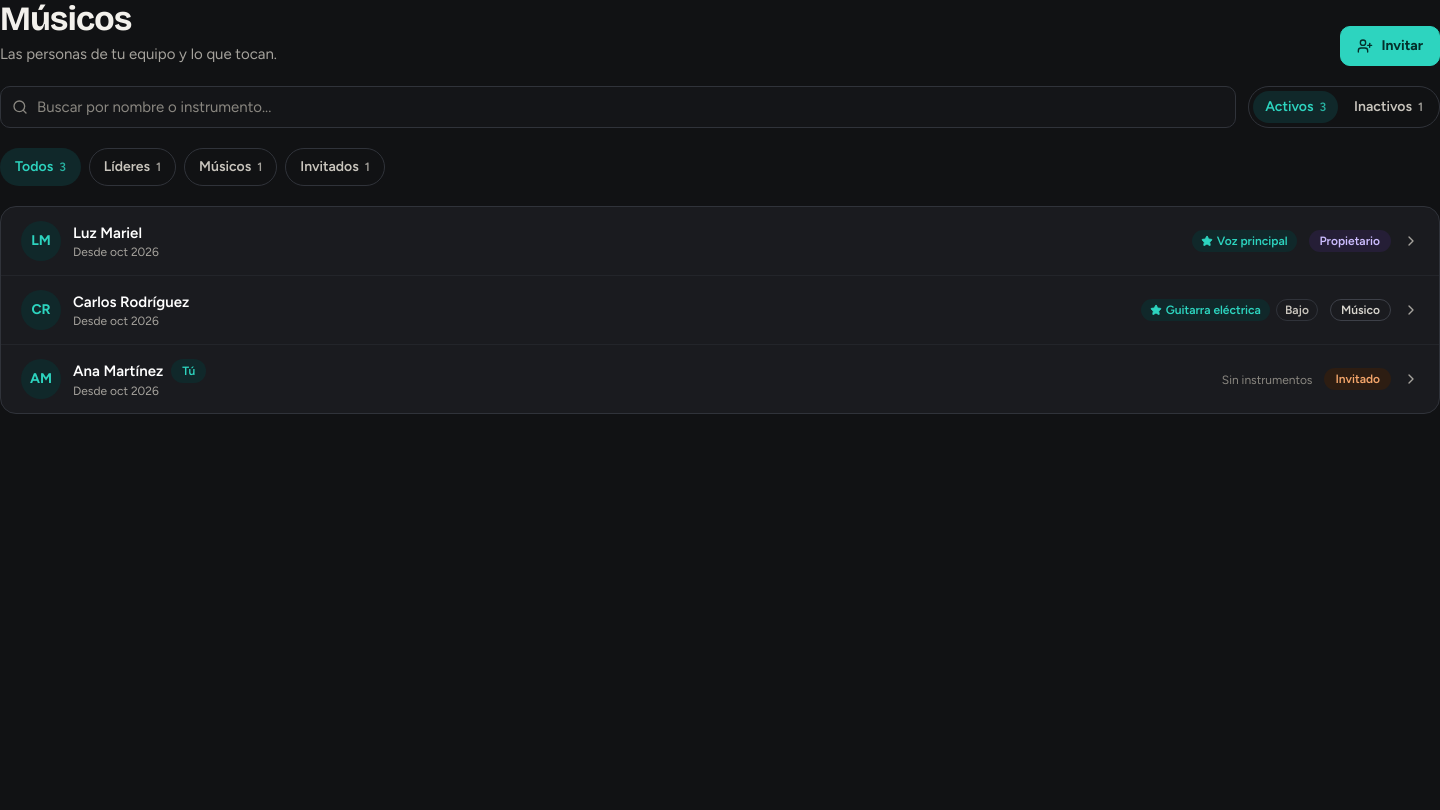
it: MusiciansPage › un admin no puede nombrar propietarios ni editar al propietario
The width and height of the screenshot is (1440, 810).
Click the button with aria-label "Ver ficha de Carlos Rodríguez".
click(41, 310)  # box [1,275,1439,344]
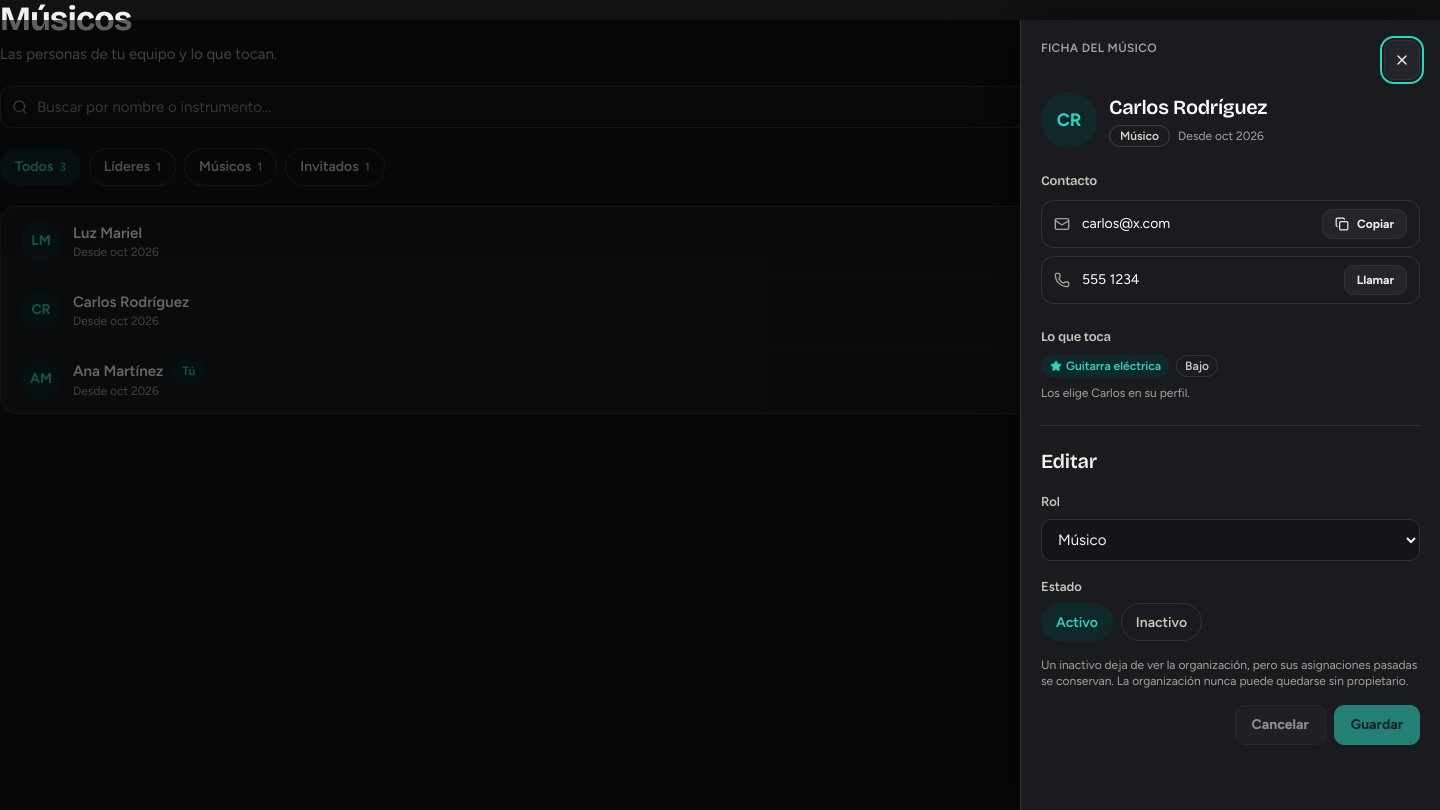
Click the button named "Cerrar".
click(1402, 60)  # box [1384,40,1420,80]
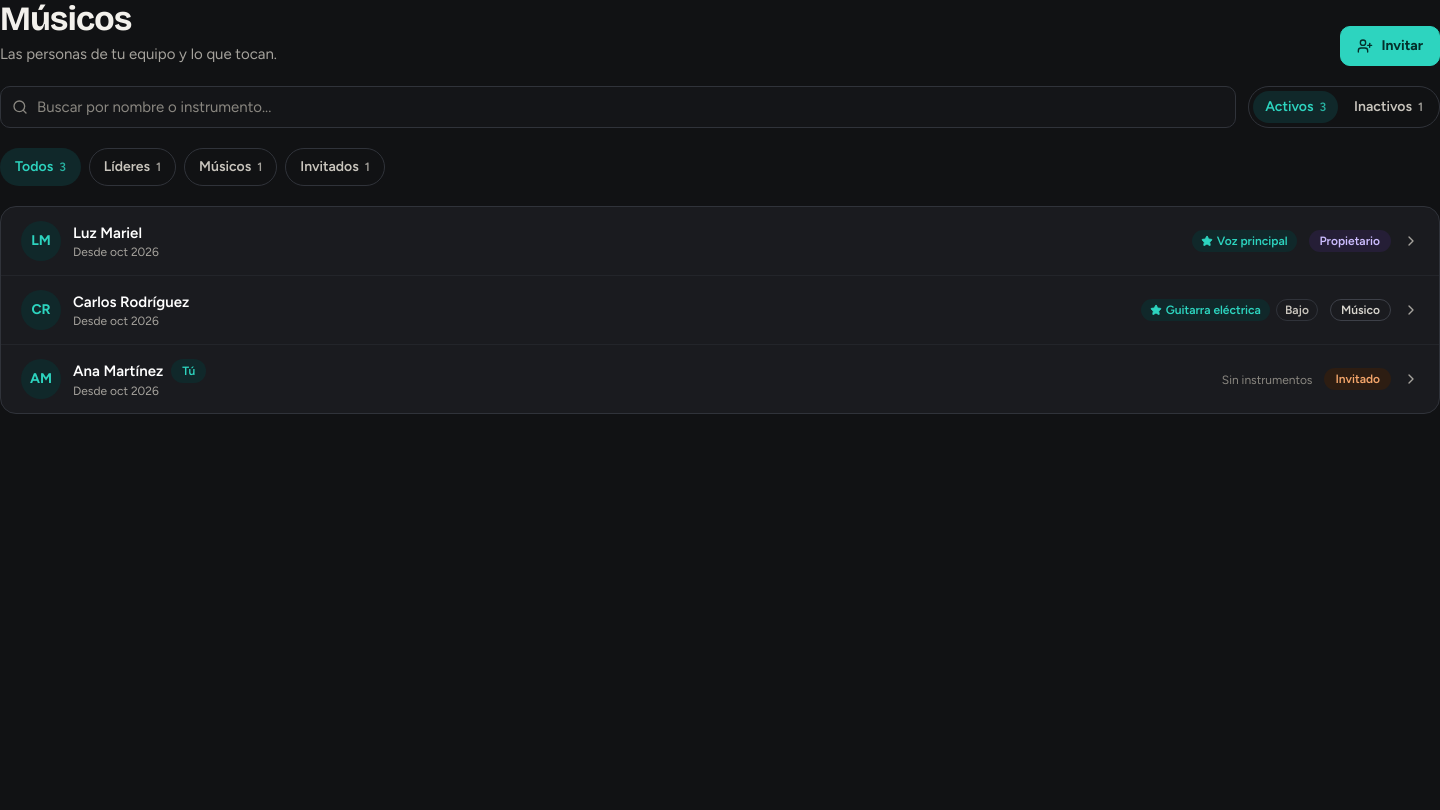
Click the button with aria-label "Ver ficha de Luz Mariel".
click(41, 241)  # box [1,207,1439,275]
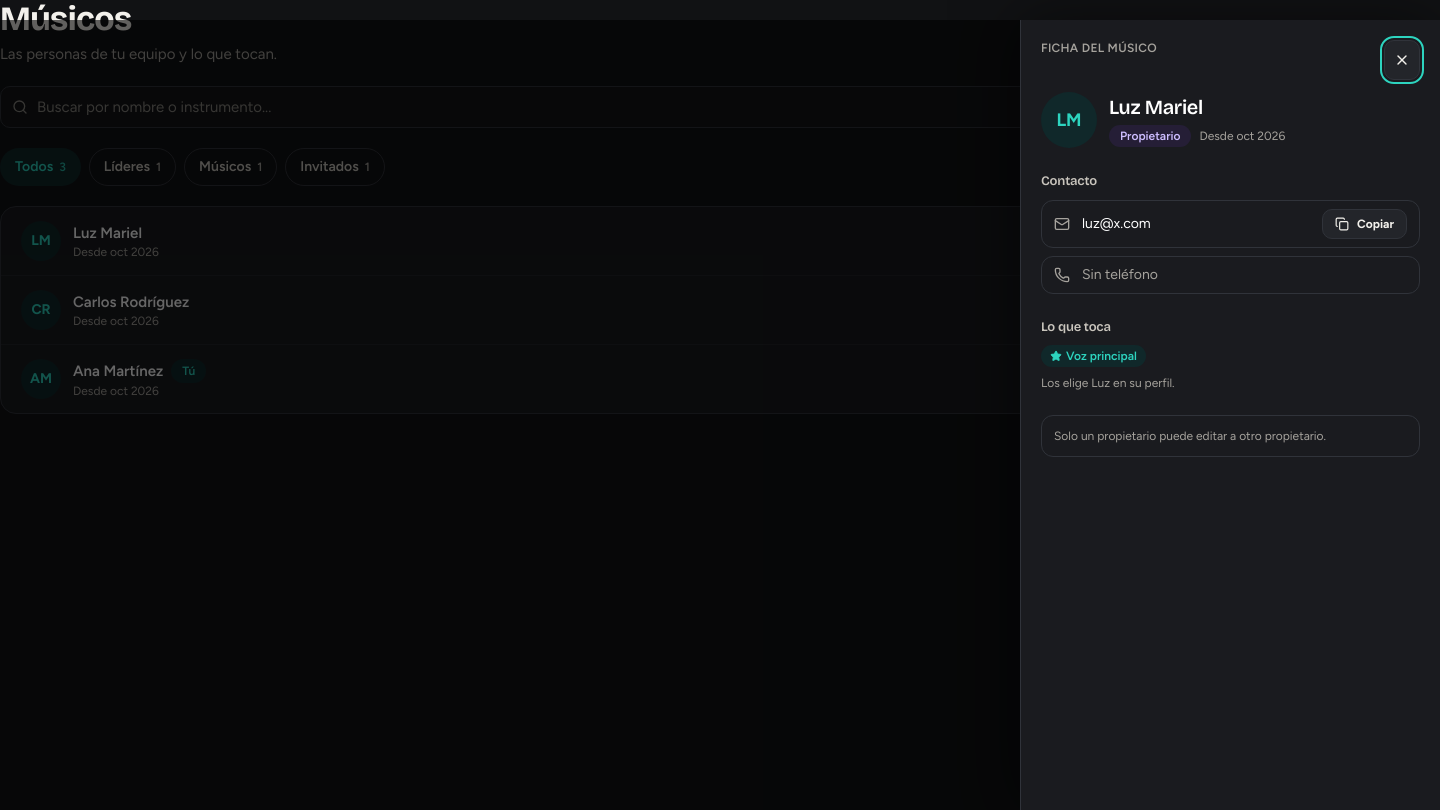
Expected: the text "Rol" is not shown
Result: the text "Solo un propietario puede editar a otro propietario." is shown at [1041,415,1420,457]
